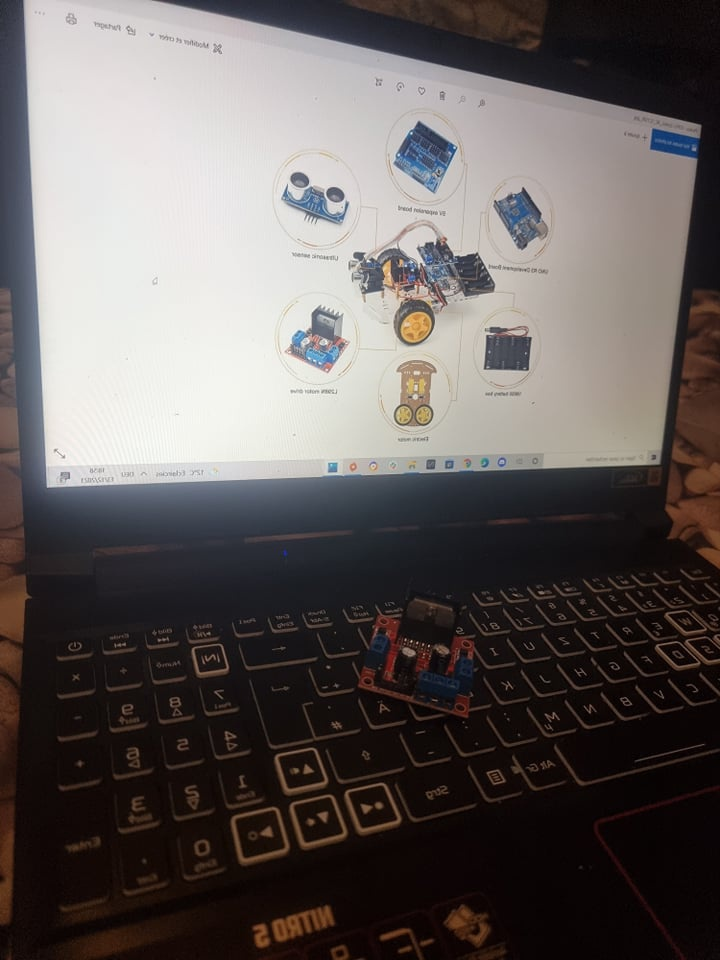5V EXPANSION: (391, 117, 462, 195)
BATTERY BOX: (482, 334, 531, 373)
MOTOR: (357, 596, 487, 722), (285, 303, 352, 372)
SENSOR: (281, 165, 349, 223), (342, 255, 364, 289)
UNO R3: (488, 182, 550, 256)
